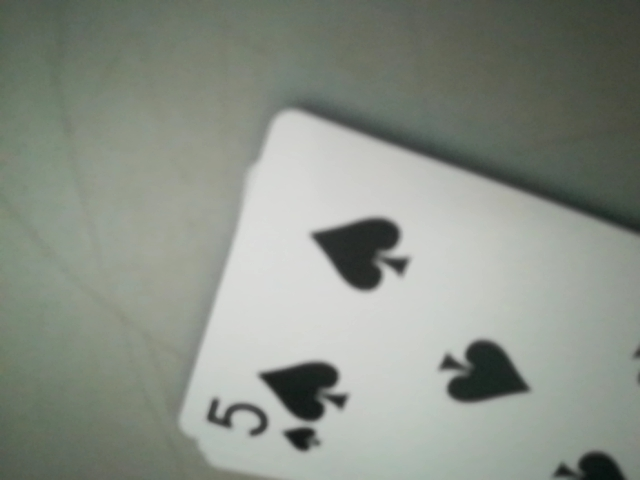ht 5: (190, 392, 340, 459)
